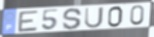0: (107, 6, 125, 28), (129, 5, 145, 26)
5: (41, 8, 60, 32)
E: (17, 9, 40, 33)
S: (62, 7, 83, 31)
U: (84, 6, 104, 29)
